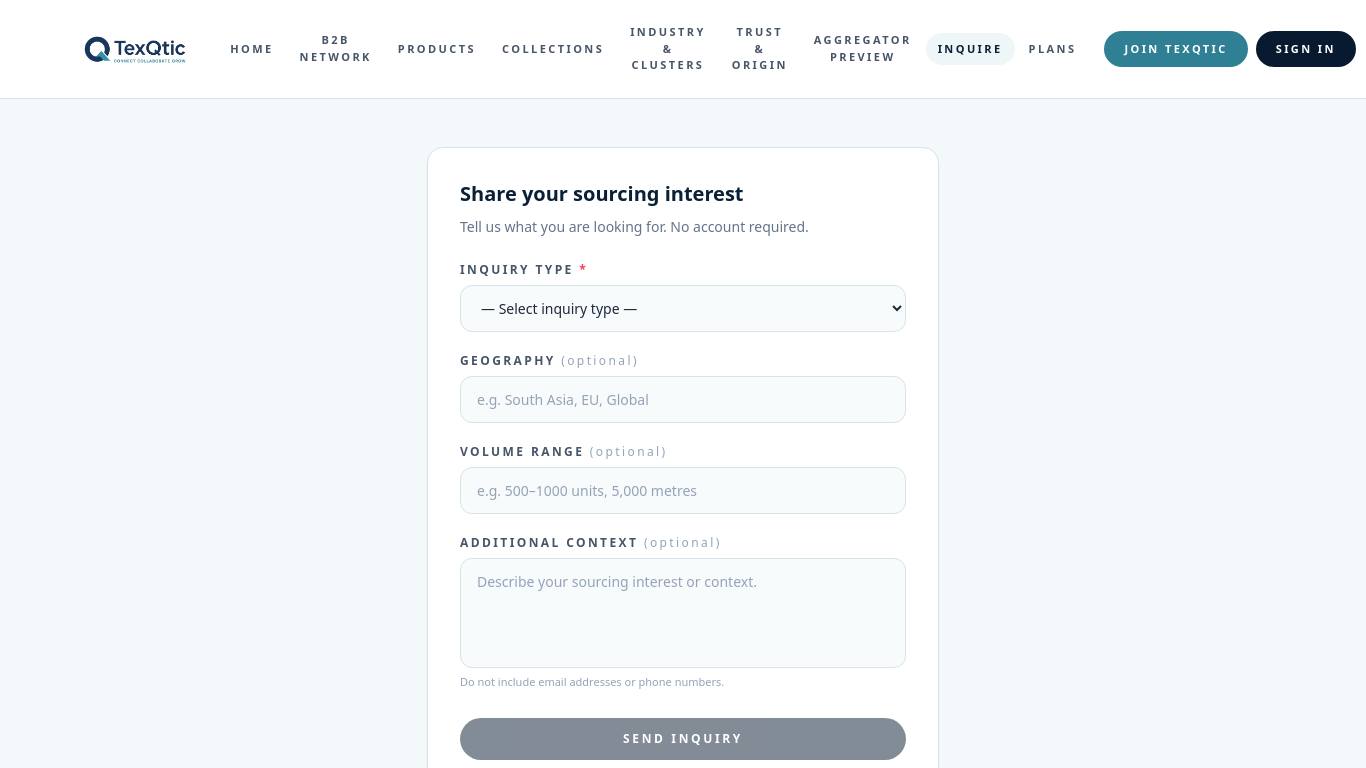
Scenario: PublicInquiryPage › PII-020 — 400 PII error shows safe UI copy
The width and height of the screenshot is (1366, 768).
Select "General enquiry" in the dropdown labelled "Inquiry type *": (683, 308) [460,284,906,332]
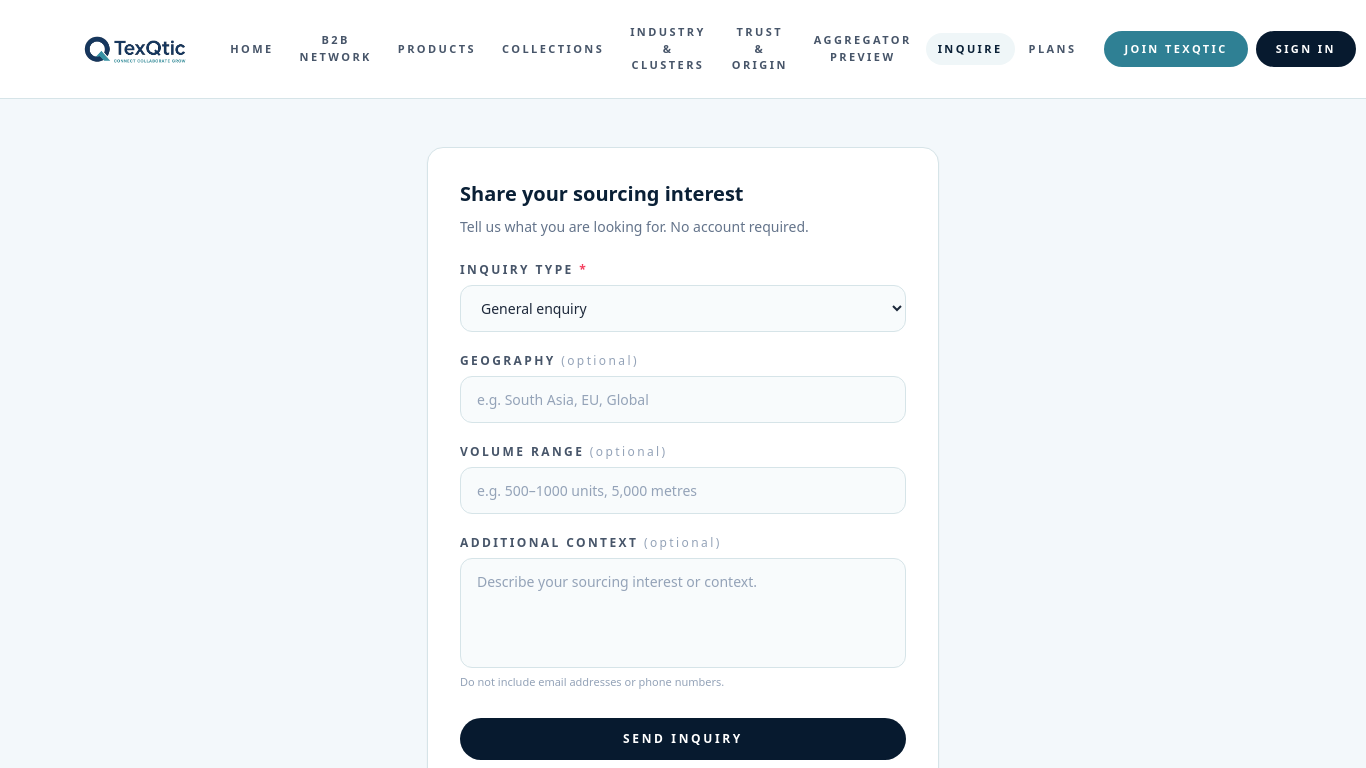
Click the button "Send inquiry": (683, 739) [460,718,906,760]
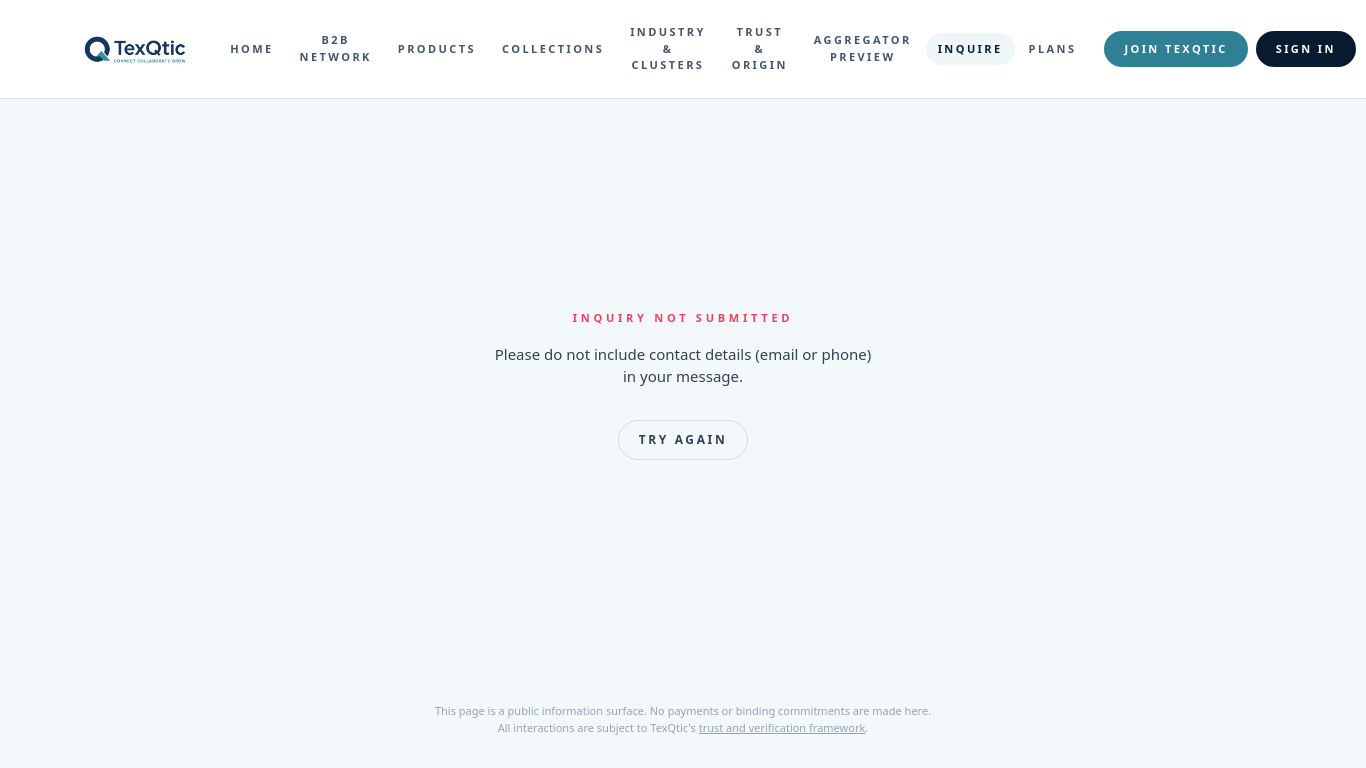
Now the text "do not include contact details" is shown, box [495,344,871,386]
